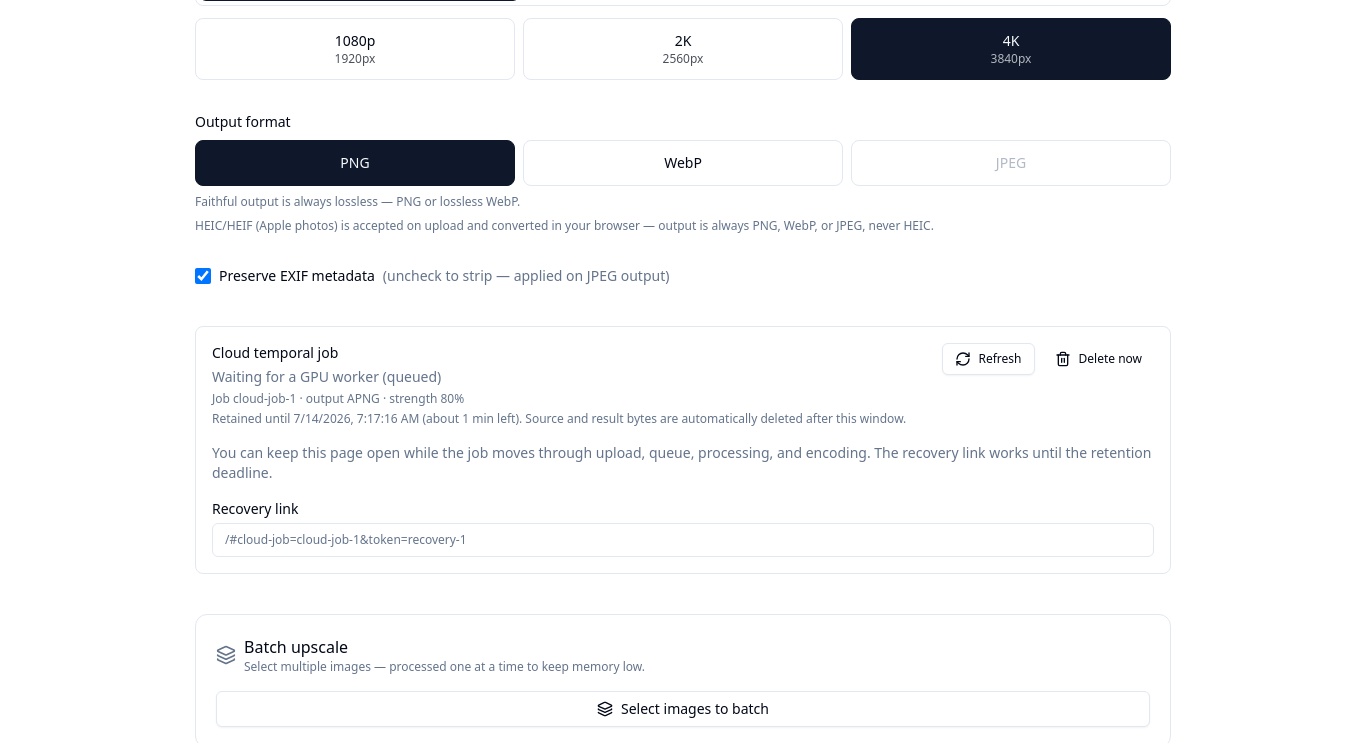
Scenario: cloud job recovery and polling (issue #59) › refreshes non-terminal jobs through the cloud client without a long blocking request
This screenshot has width=1366, height=743.
(page scrolled)
Expected: the element with test id "cloud-job-panel" is shown, [195, 326, 1171, 574]
Click the button with test id "cloud-job-refresh".
click(988, 359)  # box [942, 343, 1034, 375]
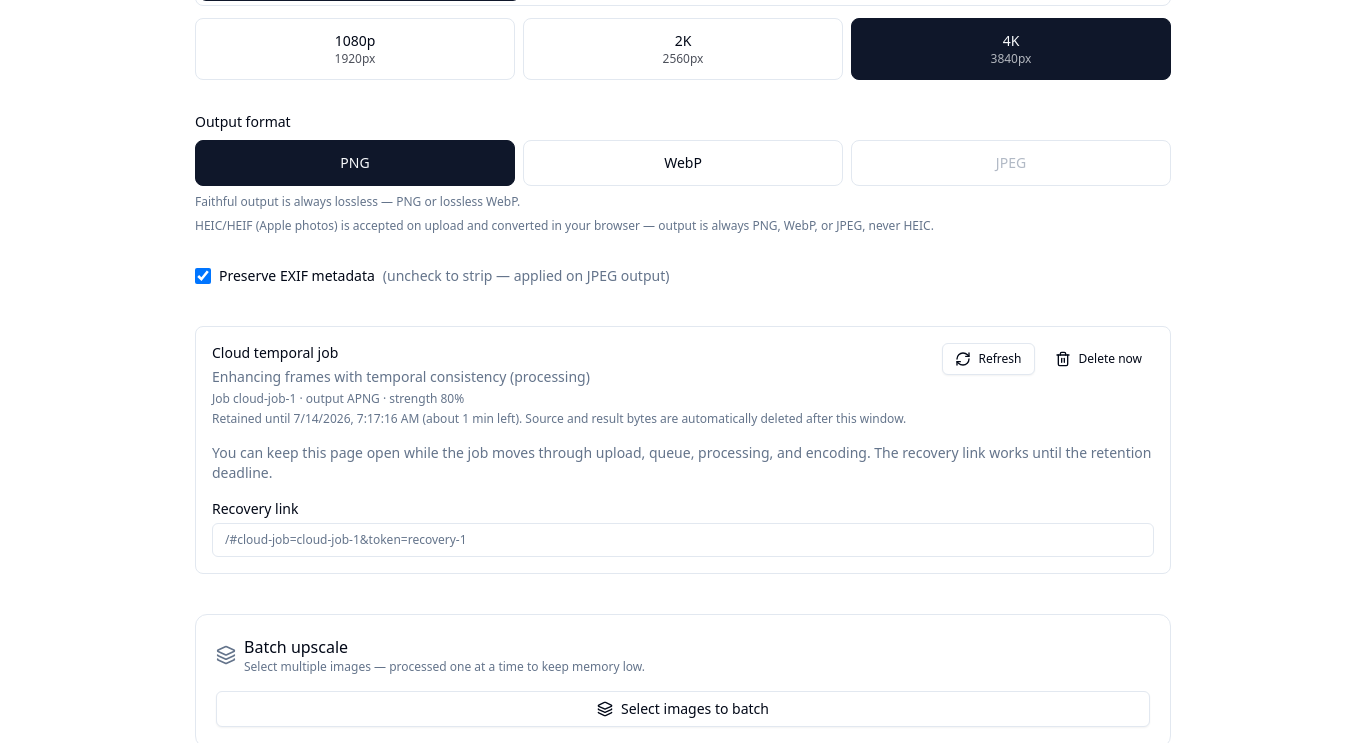
Expected: the text with test id "cloud-job-status" shows "processing", [514, 367, 586, 386]
